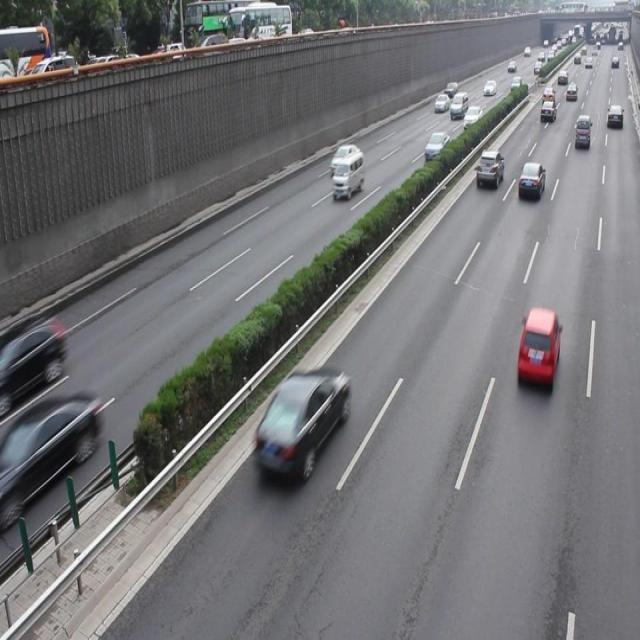car: (254, 366, 350, 484), (11, 391, 104, 507), (1, 310, 65, 400), (514, 305, 559, 387), (474, 148, 503, 190), (518, 160, 544, 199), (330, 144, 358, 174)
truck: (333, 152, 363, 198)
